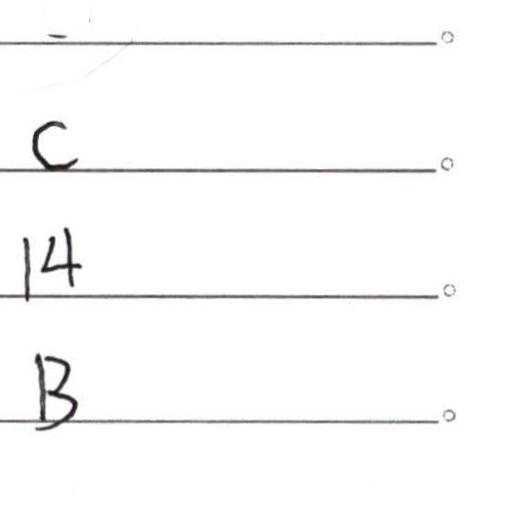ans: (18, 224, 82, 298), (30, 348, 79, 433), (29, 119, 80, 172)
